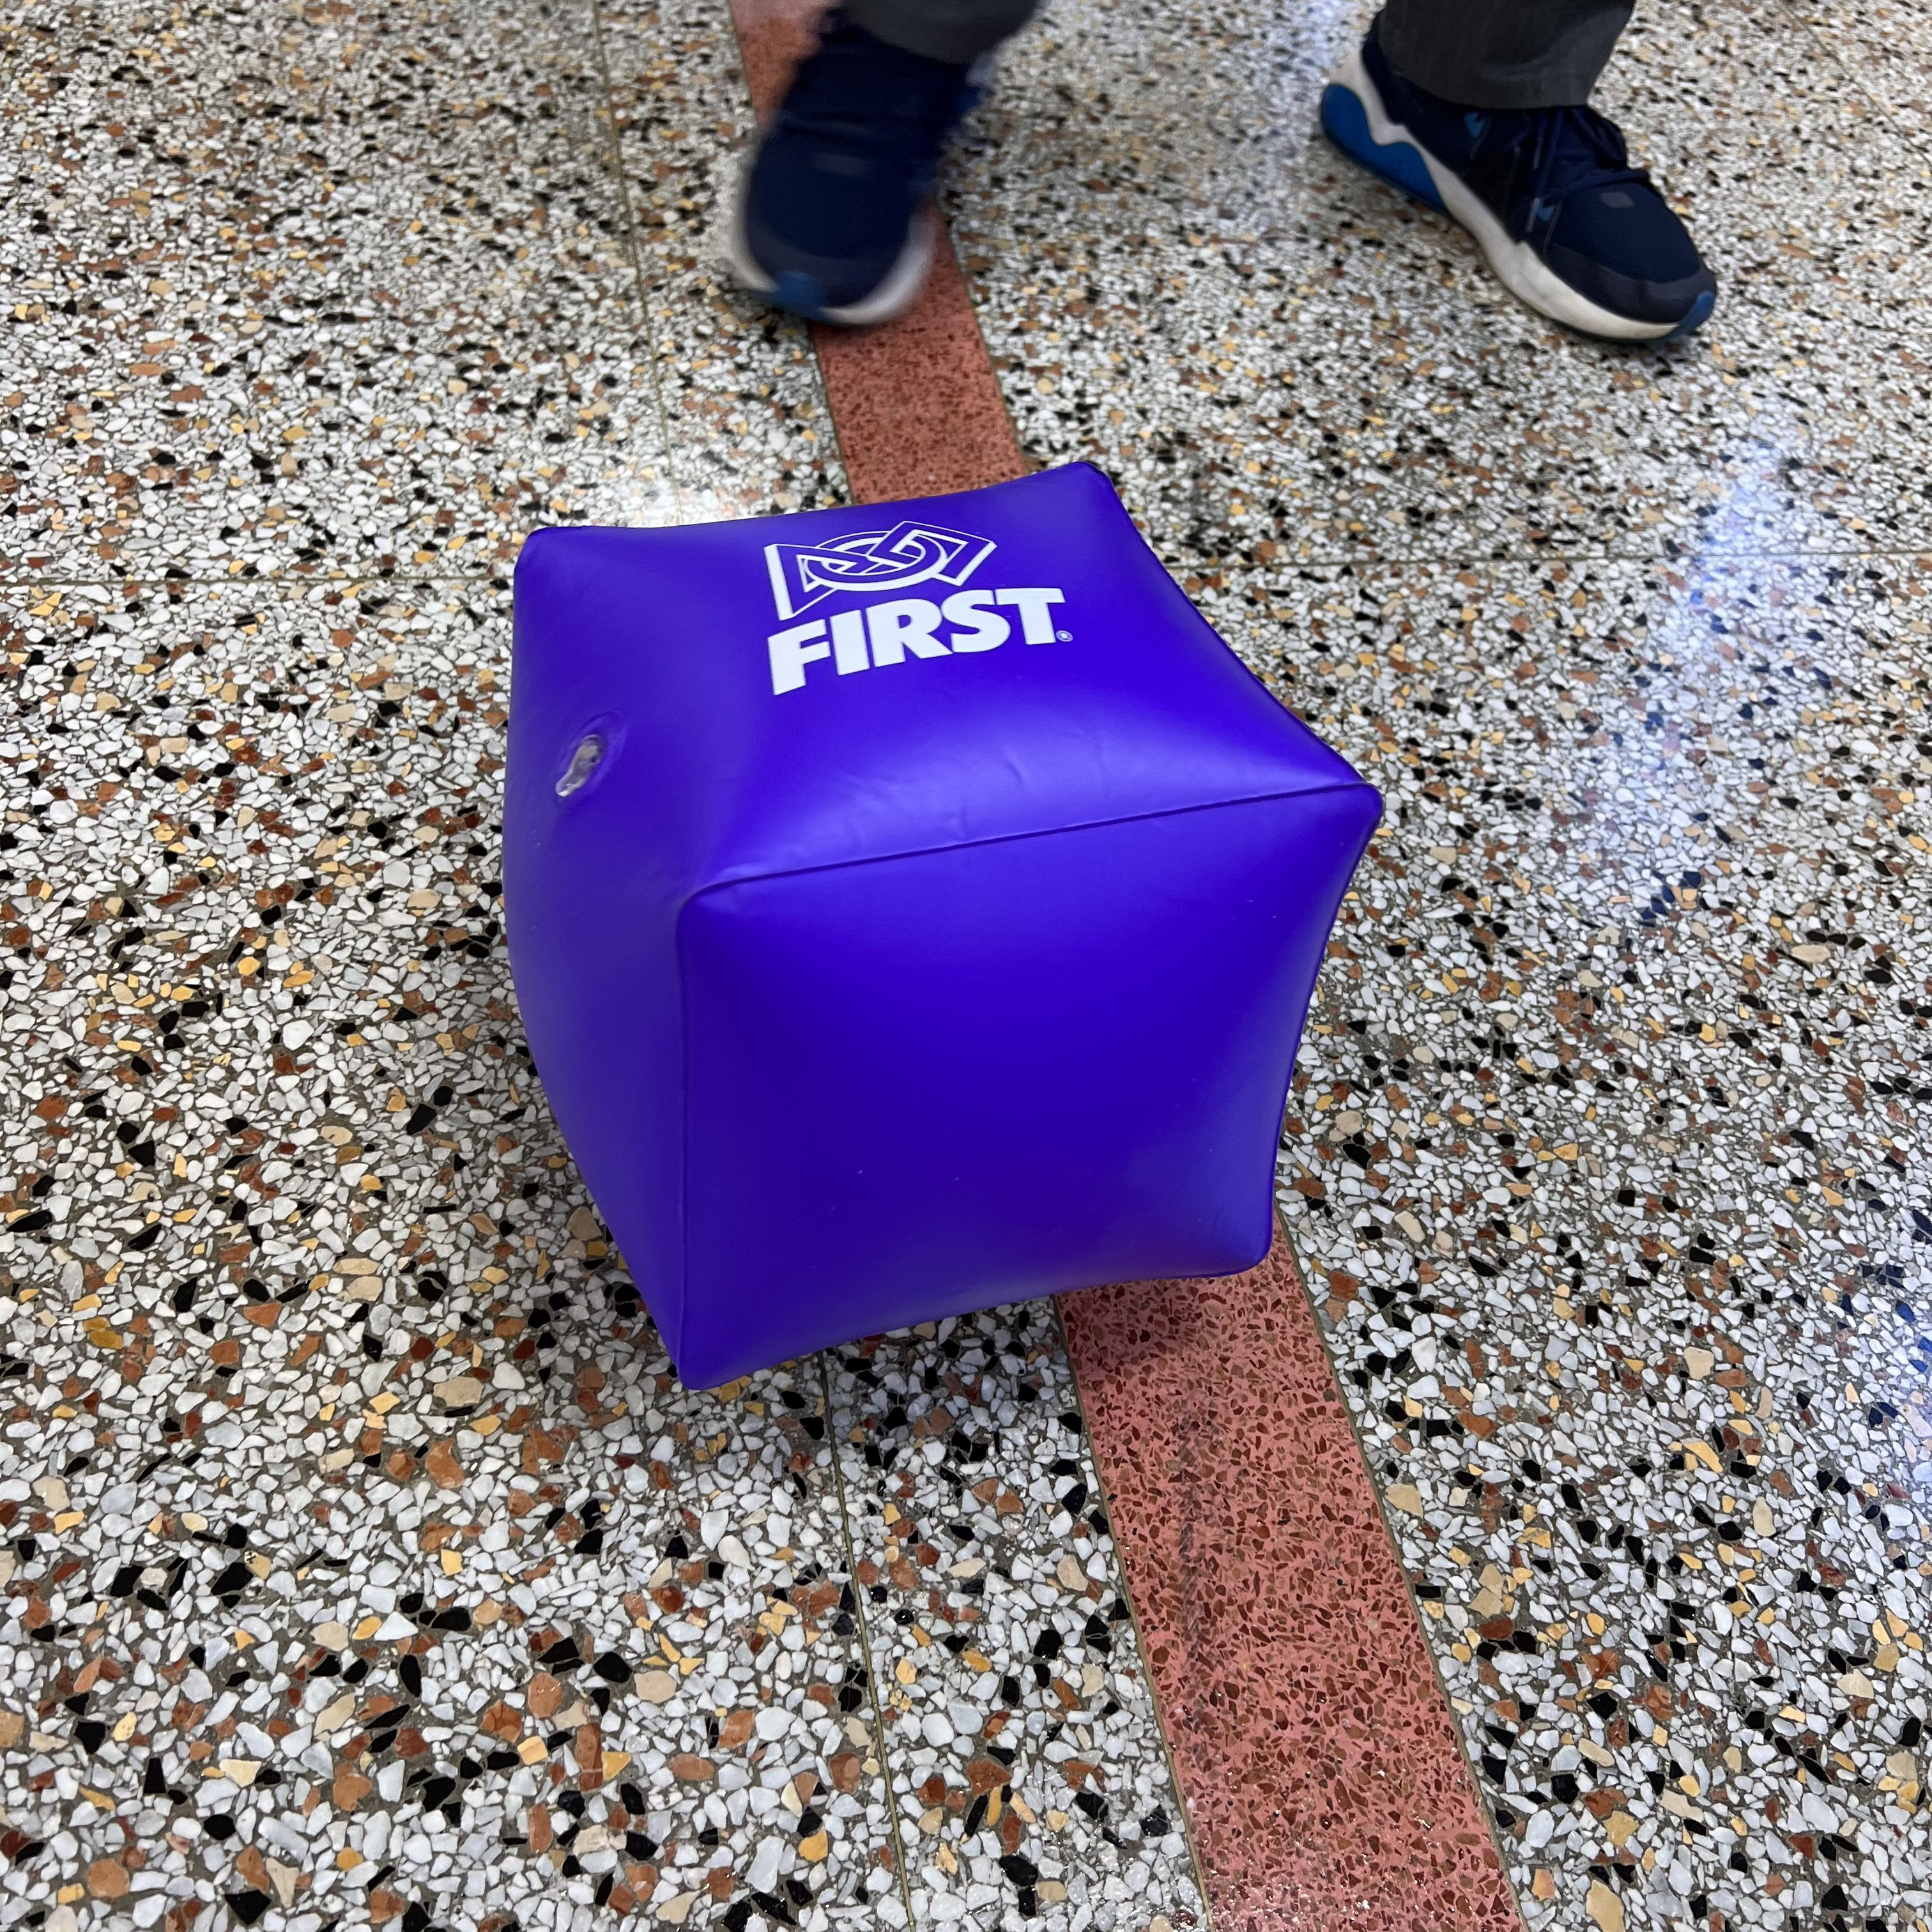cube: (501, 460, 1380, 1391)
